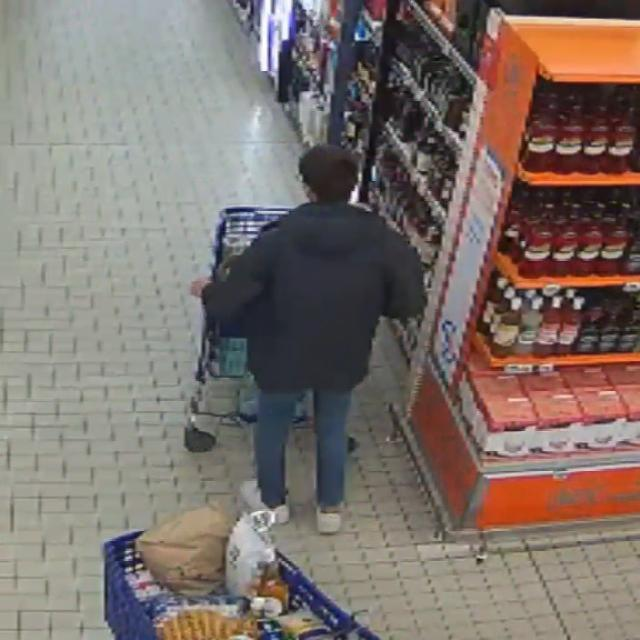hands: (190, 277, 210, 297)
person: (192, 146, 425, 533)
